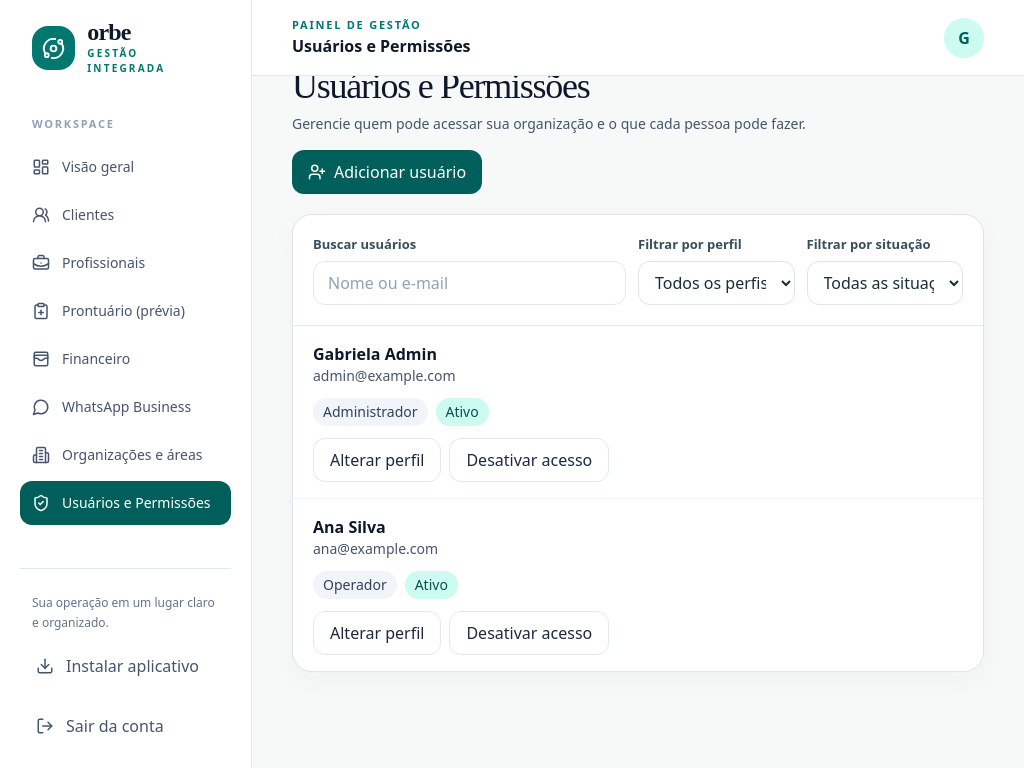
Scenario: Usuários e Permissões › desativa e reativa o vínculo com confirmação
(page scrolled)
What coordinates should you click on to do the following:
click the button with aria-label "Desativar acesso de Ana Silva"
I would click on:
 (529, 633)
Its box is [449,611,609,655].
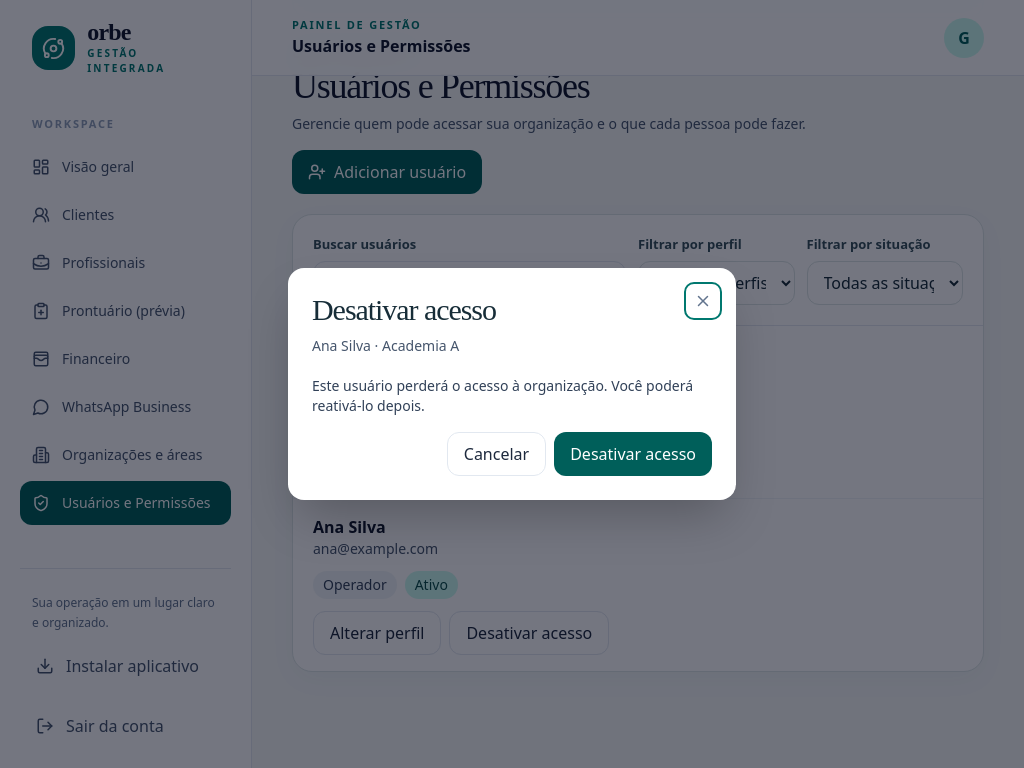
Expected: the text "Este usuário perderá o acesso à organização. Você poderá reativá-lo depois." is shown, [312,376,712,416]
What coordinates should you click on to do the following:
click the button "Desativar acesso"
I would click on:
 (633, 454)
Its box is [554,432,712,476].
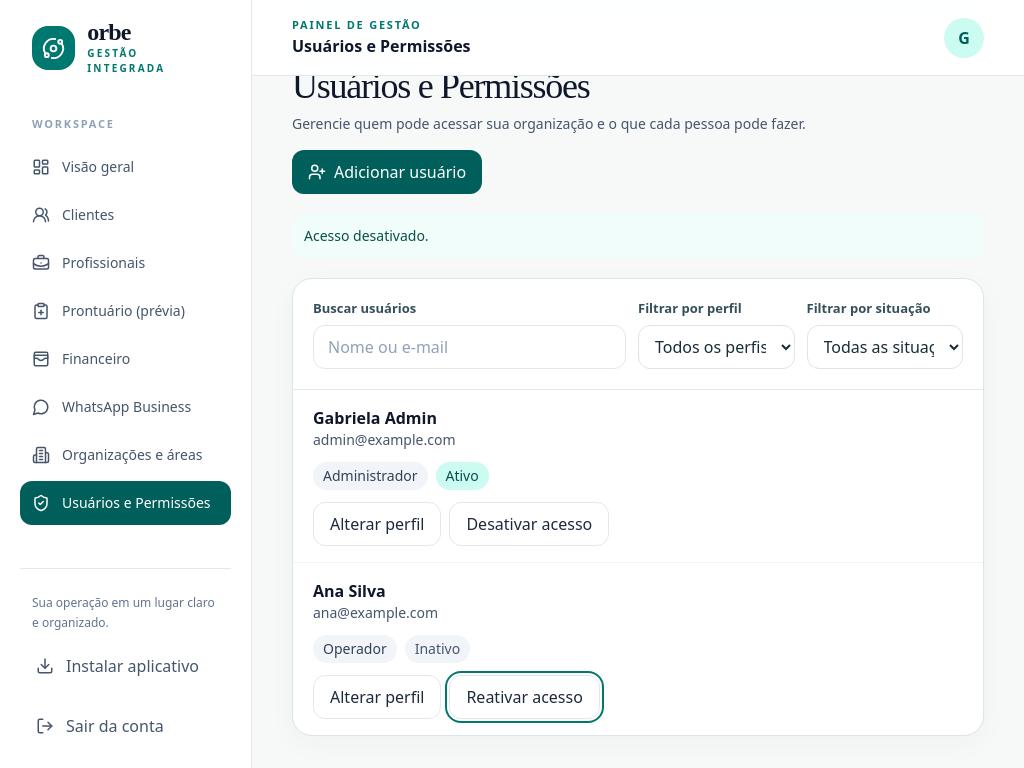
Expected: the text "Acesso desativado." is shown, [292,214,984,258]
Expected: the text "Inativo" is shown, [405,635,470,663]
What coordinates should you click on to do the following:
click the button with aria-label "Reativar acesso de Ana Silva"
I would click on:
 (525, 697)
Its box is [449,675,600,719].
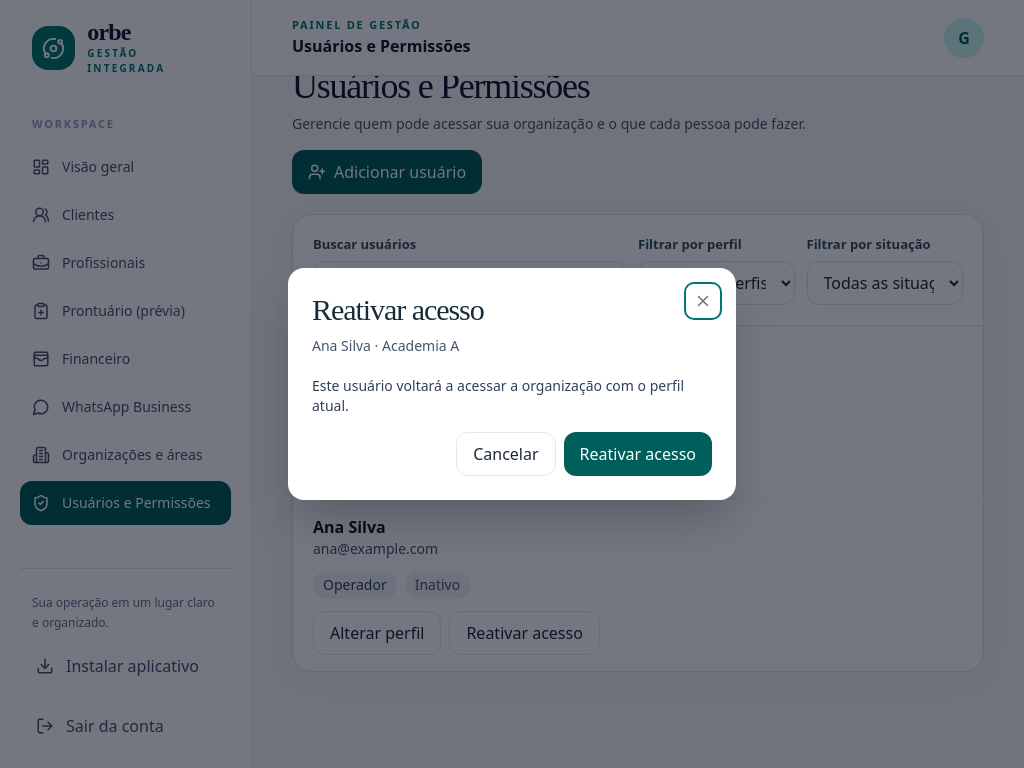
What coordinates should you click on to do the following:
click the button "Reativar acesso"
I would click on:
 (638, 454)
Its box is [564,432,712,476].
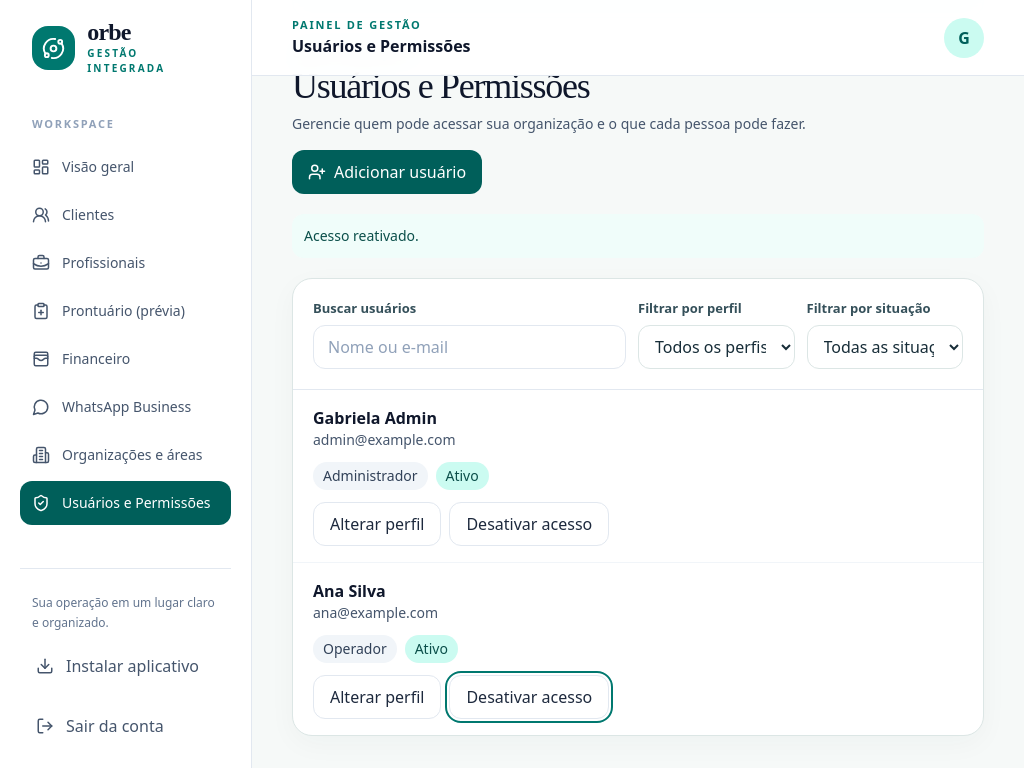
Expected: the text "Ativo" next to "Operador" is shown, [415,639,448,658]
Expected: the text "Acesso reativado." is shown, [292,214,984,258]
